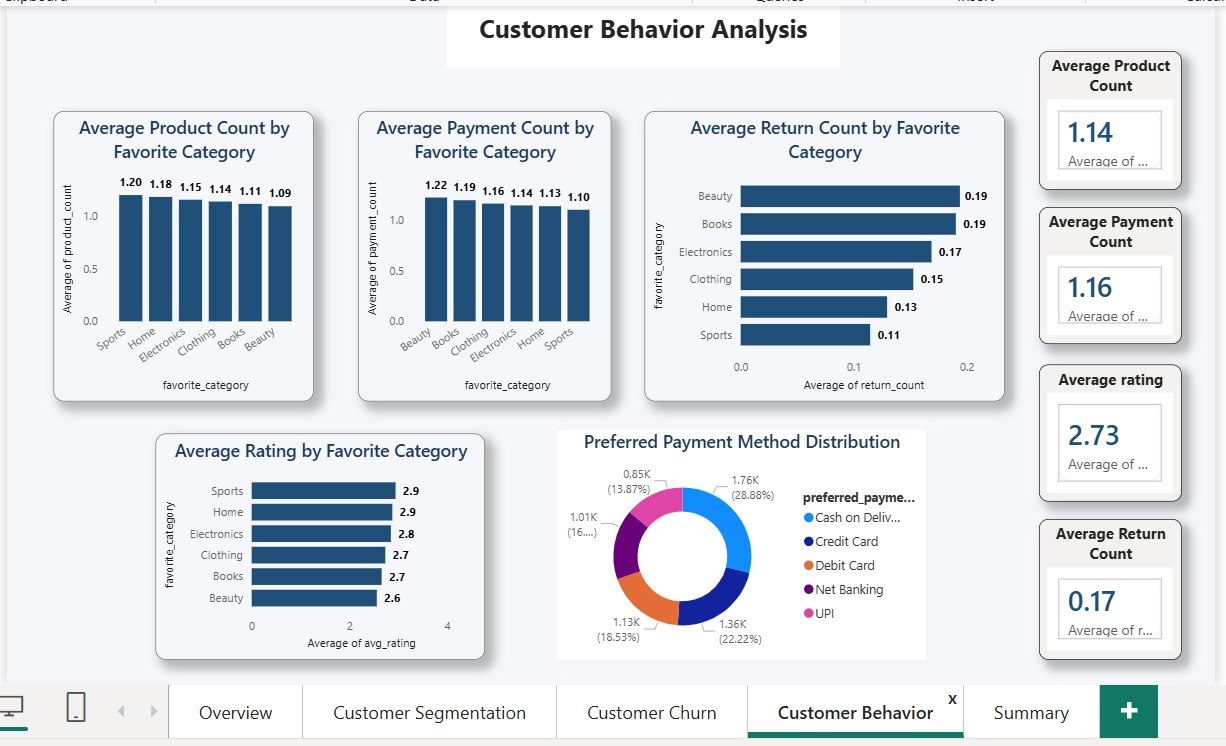

Layout of this report page (visuals, bound fields, positions):
{"tool":"powerbi","page":{"name":"Customer Behavior","canvas":[1280,720],"ordinal":3},"visuals":[{"type":"cardVisual","title":"Average Product Count","fields":{"Data":["Avg(customer_behavior.product_count)"]},"box":[1094.2,47.2,151.2,147.4],"z":0},{"type":"cardVisual","title":"Average Payment Count","fields":{"Data":["Avg(customer_behavior.payment_count)"]},"box":[1094.2,213.5,151.2,145.5],"z":1000},{"type":"cardVisual","title":"Average rating","fields":{"Data":["Avg(customer_behavior.avg_rating)"]},"box":[1094.2,379.8,151.2,145.5],"z":2000},{"type":"cardVisual","title":"Average Return Count","fields":{"Data":["Avg(customer_behavior.return_count)"]},"box":[1094.2,544.3,151.2,149.3],"z":3000},{"type":"clusteredColumnChart","title":"Average Product Count by Favorite Category","fields":{"Category":["customer_behavior.favorite_category"],"Y":["Avg(customer_behavior.product_count)"]},"box":[49.1,111.5,275.9,308],"z":4000},{"type":"clusteredColumnChart","title":"Average Payment Count by Favorite Category","fields":{"Category":["customer_behavior.favorite_category"],"Y":["Avg(customer_behavior.payment_count)"]},"box":[372.3,111.5,268.3,308],"z":5000},{"type":"clusteredBarChart","title":"Average Return Count by Favorite Category","fields":{"Y":["Avg(customer_behavior.return_count)"],"Category":["customer_behavior.favorite_category"]},"box":[676.5,111.5,381.7,308],"z":6000},{"type":"clusteredBarChart","title":"Average Rating by Favorite Category","fields":{"Y":["Avg(customer_behavior.avg_rating)"],"Category":["customer_behavior.favorite_category"]},"box":[156.9,453.5,349.6,240],"z":7000},{"type":"donutChart","title":"Preferred Payment Method Distribution","fields":{"Y":["CountNonNull(customer_segmentation.customer_id)"],"Category":["customer_behavior.preferred_payment_method"]},"box":[582.1,447.9,393.1,245.7],"z":8000},{"type":"textbox","box":[466.8,0,417.6,66.1],"z":9000}]}

Visuals, with their boxes on the page's 1280x720 design canvas (x1, y1, x2, y2). These are canvas units, not pixel positions in the 1226x746 screenshot, which may show the page scaled, cropped or inside an application window:
"Average Product Count" cardVisual: [1094,47,1245,195]
"Average Payment Count" cardVisual: [1094,214,1245,359]
"Average rating" cardVisual: [1094,380,1245,525]
"Average Return Count" cardVisual: [1094,544,1245,694]
"Average Product Count by Favorite Category" clusteredColumnChart: [49,112,325,420]
"Average Payment Count by Favorite Category" clusteredColumnChart: [372,112,641,420]
"Average Return Count by Favorite Category" clusteredBarChart: [676,112,1058,420]
"Average Rating by Favorite Category" clusteredBarChart: [157,454,506,694]
"Preferred Payment Method Distribution" donutChart: [582,448,975,694]
textbox: [467,0,884,66]
